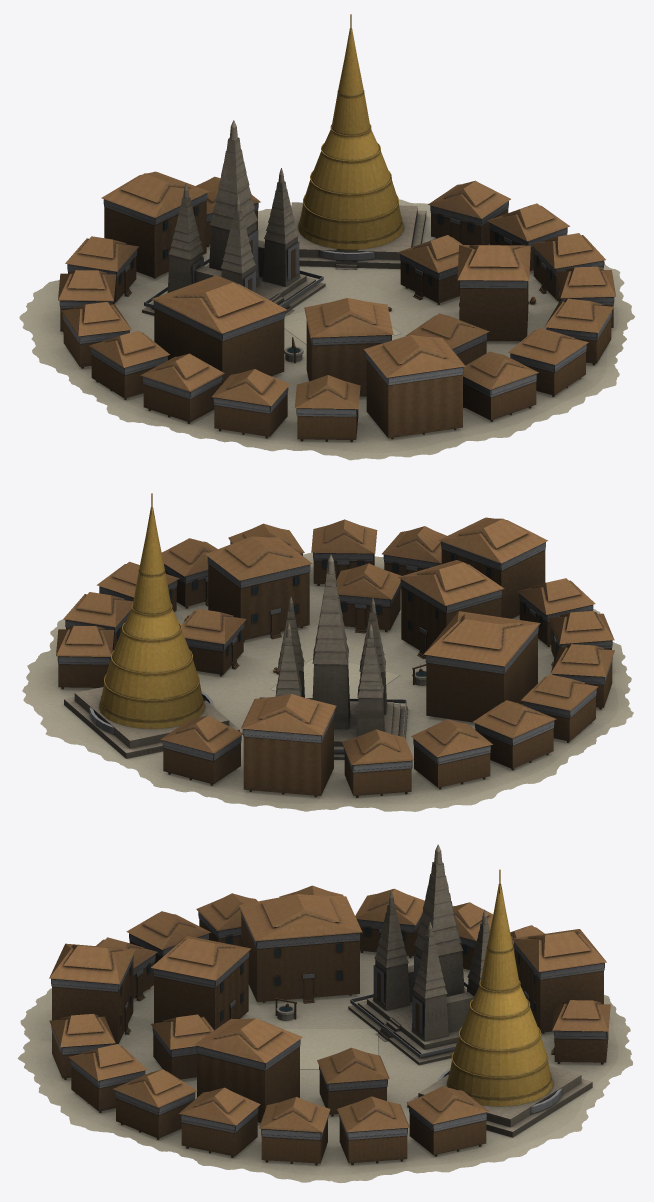
The model's file is kingdoms-town-big-a-monsoon.glb.
3 renders of one model, top to bottom at view 1: azimuth 30°, elevation 25°; view 2: azimuth 150°, elevation 25°; view 3: azimuth 270°, elevation 25°, orthographic.
Parts seen in each view (by area): view 1: LOD0; view 2: LOD0; view 3: LOD0.
Part boxes in pixels (<box>): LOD0: <box>19,14,634,460</box>; LOD0: <box>22,493,633,811</box>; LOD0: <box>17,844,632,1183</box>.
Size of what is drawn, in the model's own units: 7.93 by 3.2 by 7.89.
Materials: 3 (3 with a texture image).
